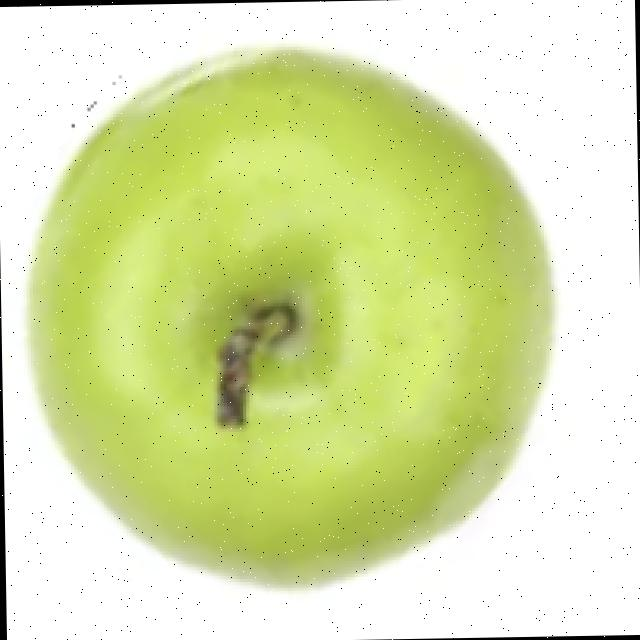apple: (16, 39, 563, 602)
